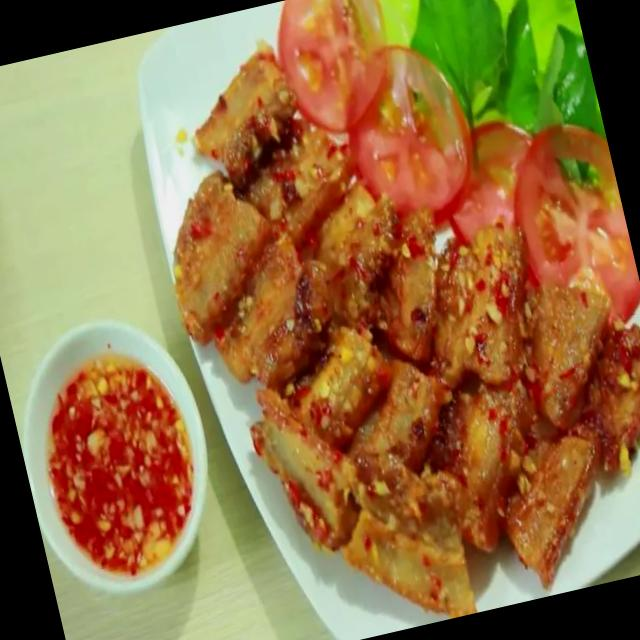ca chua: (514, 126, 640, 317), (346, 45, 471, 211), (278, 0, 386, 130), (456, 120, 529, 235)
nuoc mam: (49, 359, 193, 575)
thit chien: (175, 54, 640, 617)
